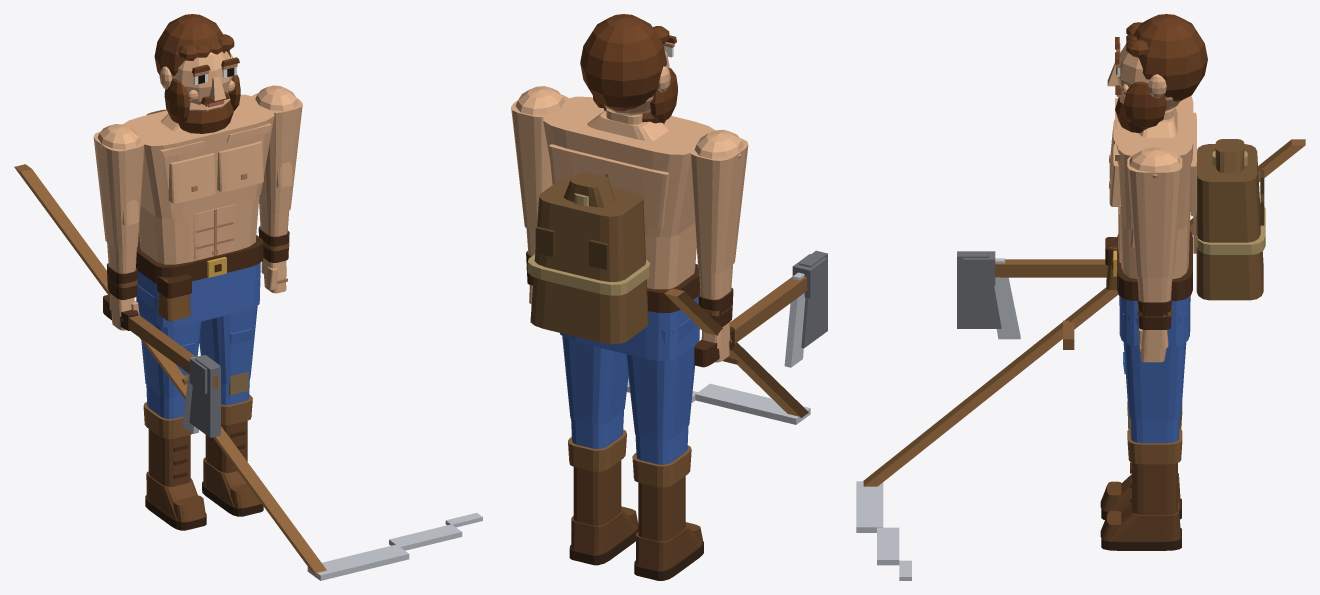
Rendered from villager_male.obj.
3 renders of one model, left to right at view 1: azimuth 30°, elevation 25°; view 2: azimuth 150°, elevation 25°; view 3: azimuth 270°, elevation 25°, orthographic. The views are drawn at different scales.
Parts seen in each view (by area): view 1: Chest, Arm.R.Lower.Scythe.Snath, Arm.R, Hips, Belly, Arm.R.Lower.Scythe.Blade, Leg.L, Arm.L, Head.Hair, Belt, Leg.R, Chest.Pec.R (+25 smaller); view 2: Load, Chest, Head.Hair, Arm.R, Leg.R, Leg.L, Back.Blades, Arm.L, Hips, Leg.L.Lower.Shaft, Leg.R.Lower.Shaft, Arm.R.Lower.Scythe.Snath (+26 smaller); view 3: Load, Arm.L, Arm.R.Lower.Scythe.Snath, Head.Hair, Leg.L, Chest, Arm.R.Lower.Scythe.Blade, Leg.L.Lower.Shaft, Arm.R.Lower.Tool.Head, Arm.R.Lower.Tool.Handle, Leg.L.Lower.Boot, Hips (+16 smaller).
Boxes of the visible parts, x1,y1,x2,y2 form: Chest: (123, 94, 274, 218); Arm.R.Lower.Scythe.Snath: (14, 164, 326, 576); Arm.R: (93, 131, 144, 250); Hips: (136, 263, 260, 327); Belly: (139, 196, 259, 264); Arm.R.Lower.Scythe.Blade: (307, 513, 482, 580); Leg.L: (199, 275, 260, 384); Arm.L: (252, 93, 302, 213); Head.Hair: (154, 14, 230, 75); Belt: (136, 235, 263, 283); Leg.R: (137, 285, 201, 398); Chest.Pec.R: (168, 153, 216, 203); Load: (530, 178, 648, 344); Chest: (543, 96, 714, 237); Head.Hair: (580, 14, 666, 111); Arm.R: (691, 138, 748, 273); Leg.R: (626, 319, 696, 440); Leg.L: (562, 336, 628, 425); Back.Blades: (548, 144, 669, 228); Arm.L: (511, 94, 568, 230); Hips: (560, 296, 699, 360); Leg.L.Lower.Shaft: (573, 460, 621, 525); Leg.R.Lower.Shaft: (638, 476, 685, 541); Arm.R.Lower.Scythe.Snath: (664, 288, 808, 417); Load: (1196, 144, 1263, 300); Arm.L: (1127, 156, 1182, 277); Arm.R.Lower.Scythe.Snath: (863, 139, 1305, 486); Head.Hair: (1132, 14, 1207, 101); Leg.L: (1122, 312, 1187, 420); Chest: (1116, 95, 1193, 229); Arm.R.Lower.Scythe.Blade: (856, 481, 911, 580); Leg.L.Lower.Shaft: (1132, 463, 1177, 514); Arm.R.Lower.Tool.Head: (957, 251, 1001, 328); Arm.R.Lower.Tool.Handle: (995, 259, 1107, 277); Leg.L.Lower.Boot: (1109, 502, 1180, 541); Hips: (1119, 296, 1190, 345).
Bounding box in the file's own units: 1.06 × 1.76 × 1.41.
